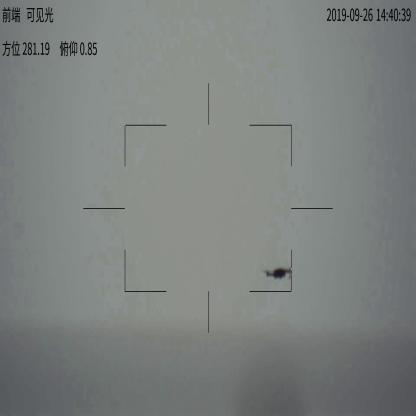uav: (259, 264, 298, 281)
